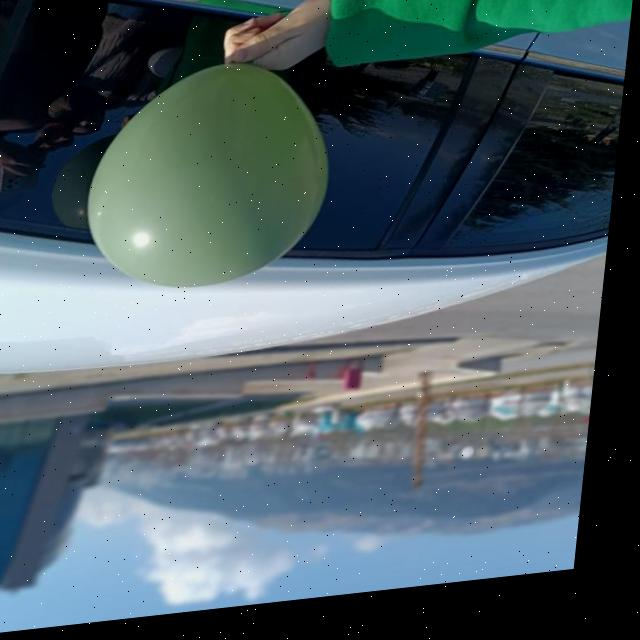balloon: (79, 52, 339, 309)
